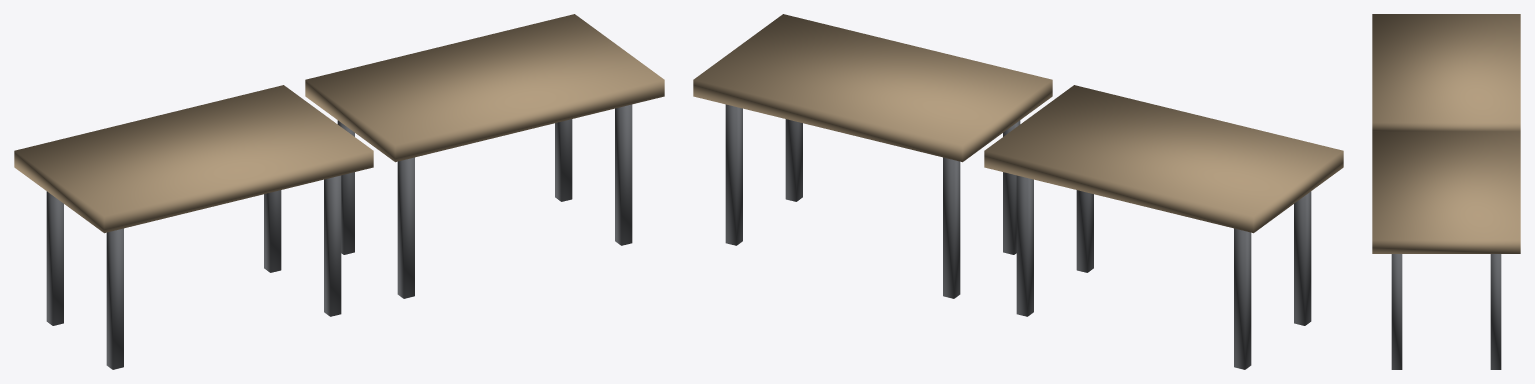
Rendered from dining_table__cluster.glb.
3 renders of one model, left to right at view 1: azimuth 30°, elevation 25°; view 2: azimuth 150°, elevation 25°; view 3: azimuth 270°, elevation 25°, orthographic. The views are drawn at different scales.
Visible parts, largest first — view 1: world; view 2: world; view 3: world.
Boxes of the visible parts, <box> form: world: <box>14,14,664,369</box>; world: <box>693,14,1343,369</box>; world: <box>1372,14,1520,369</box>.
Size of the model in its own units: 2.81 by 0.8 by 0.78.
